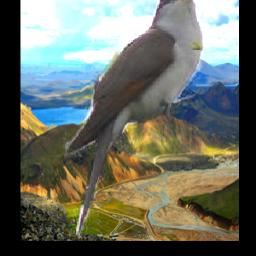Cuckoo: (63, 0, 203, 238)
